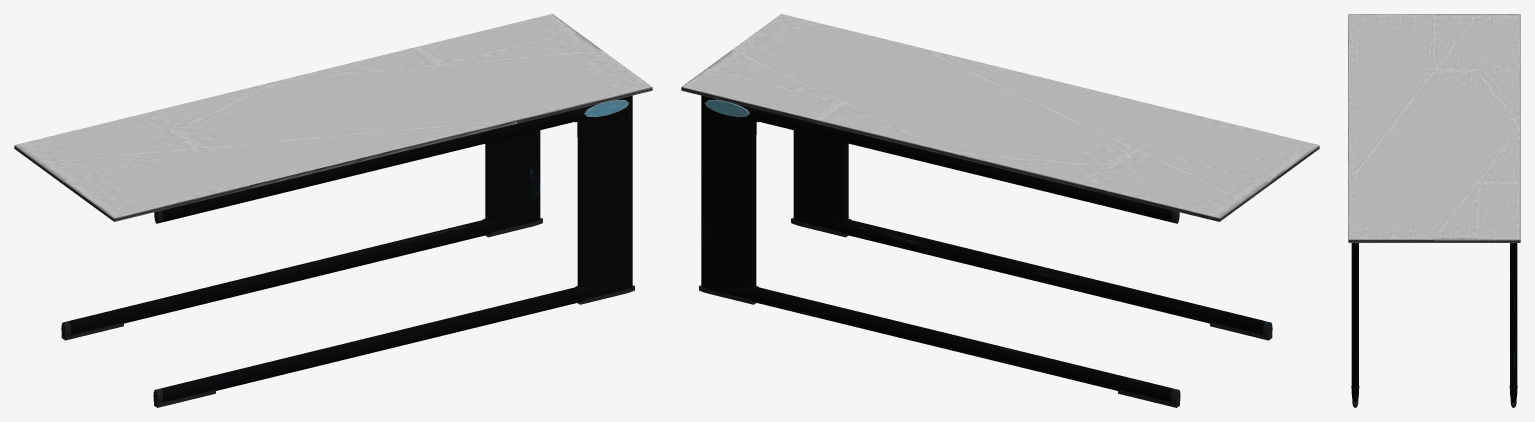
The model's file is table_2.glb.
The picture shows the model from 3 angles, left to right: view 1: azimuth 30°, elevation 25°; view 2: azimuth 150°, elevation 25°; view 3: azimuth 270°, elevation 25°; orthographic projection. The views are drawn at different scales.
Visible parts, largest first — view 1: table_2; view 2: table_2; view 3: table_2.
Boxes of the visible parts, box(x1,y1,x2,y2) form: table_2: box(14, 14, 652, 407); table_2: box(681, 14, 1319, 407); table_2: box(1348, 14, 1520, 407).
Size of the model in its own units: 4.08 by 1.46 by 1.31.
1 material, 1 textured.
